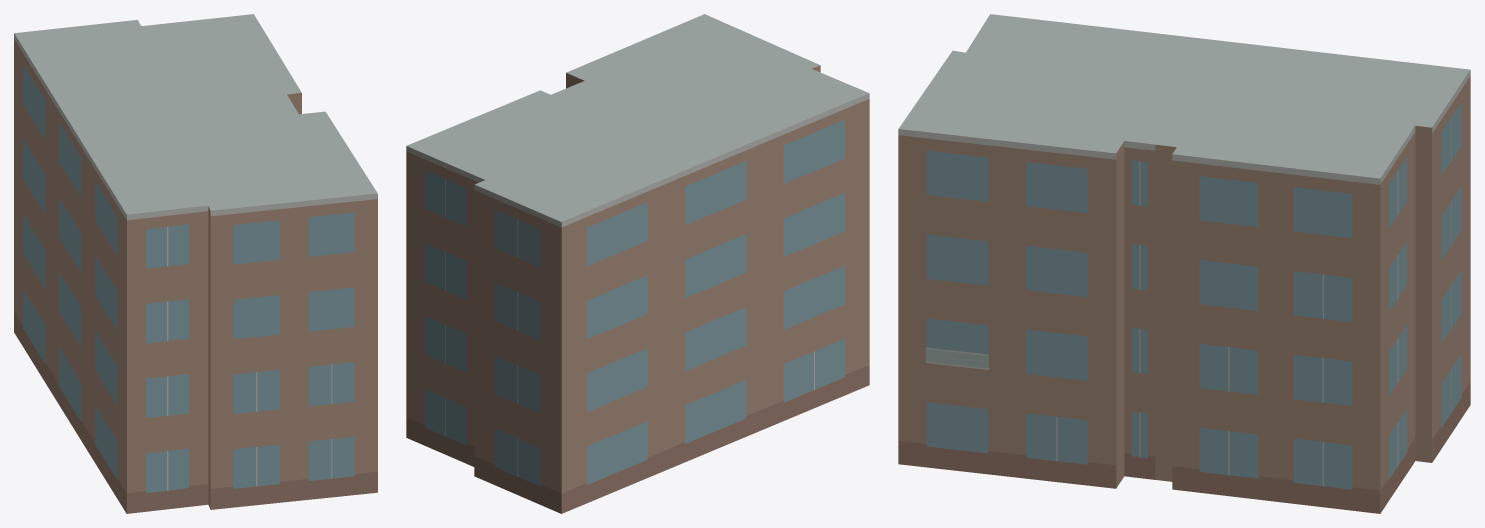
Rendered from survey-upis-32935908.glb.
3 renders of one model, left to right at view 1: azimuth 30°, elevation 25°; view 2: azimuth 150°, elevation 25°; view 3: azimuth 270°, elevation 25°, orthographic. The views are drawn at different scales.
Parts seen in each view (by area): view 1: survey-upis-32935908.tmp; view 2: survey-upis-32935908.tmp; view 3: survey-upis-32935908.tmp.
Part boxes in pixels (x1,y1,x2,y2): survey-upis-32935908.tmp: [14, 14, 377, 513]; survey-upis-32935908.tmp: [406, 14, 869, 513]; survey-upis-32935908.tmp: [898, 14, 1470, 513].
Size of the model in its own units: 13.81 by 13.1 by 20.27.
